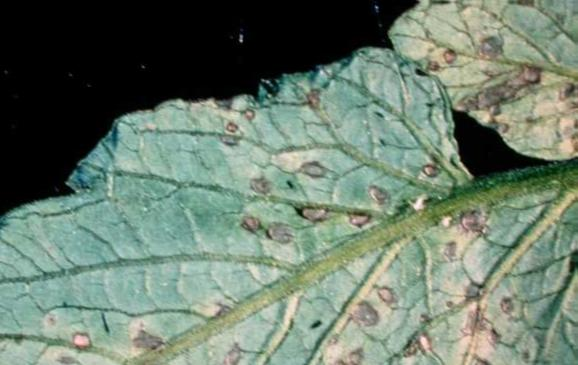Tomato Septoria leaf spot: (0, 12, 578, 365), (387, 0, 578, 159)
